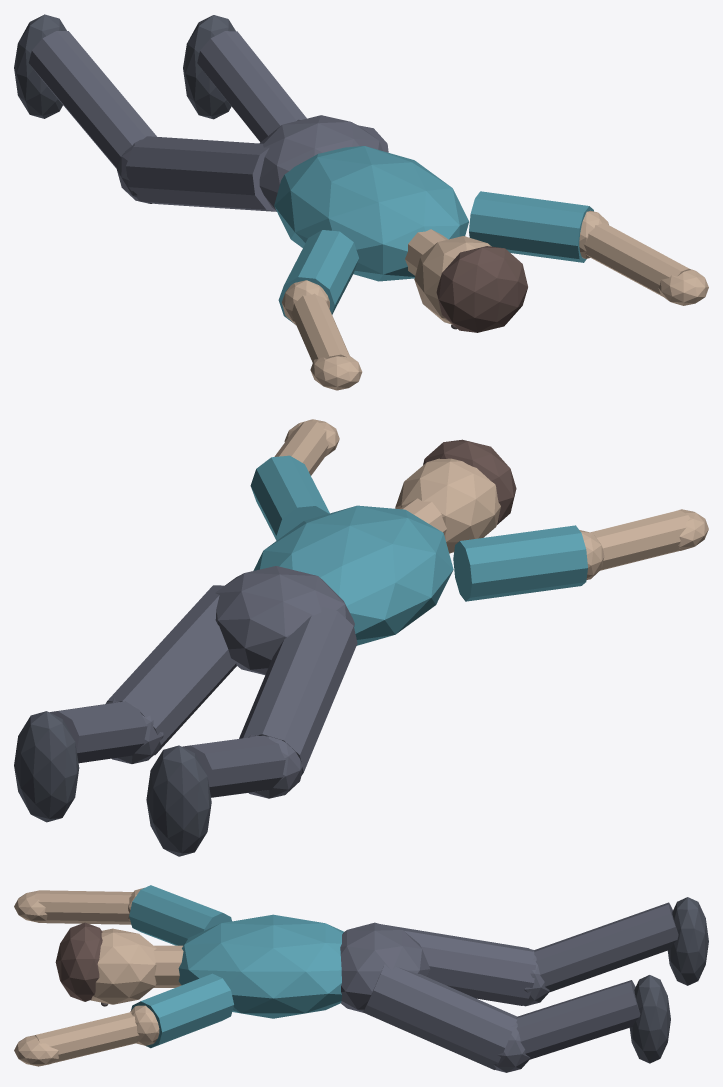
3 renders of one model, top to bottom at view 1: azimuth 30°, elevation 25°; view 2: azimuth 150°, elevation 25°; view 3: azimuth 270°, elevation 25°, orthographic. The views are drawn at different scales.
Parts seen in each view (by area): view 1: world; view 2: world; view 3: world.
Boxes of the visible parts, <box> form: world: <box>14,14,708,390</box>; world: <box>14,419,708,856</box>; world: <box>14,885,708,1072</box>.
Size of the model in its own units: 1.17 by 0.3942 by 2.12.
